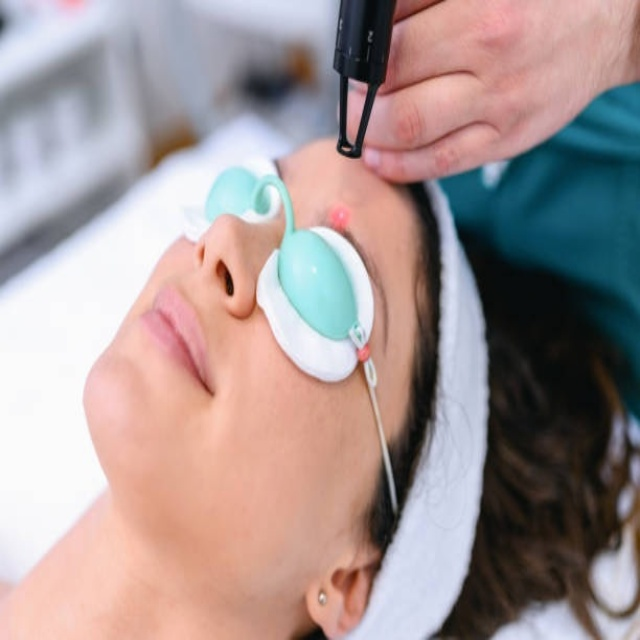Sin_guantes: (338, 0, 634, 188)
Sin_mascara: (94, 256, 252, 464)
